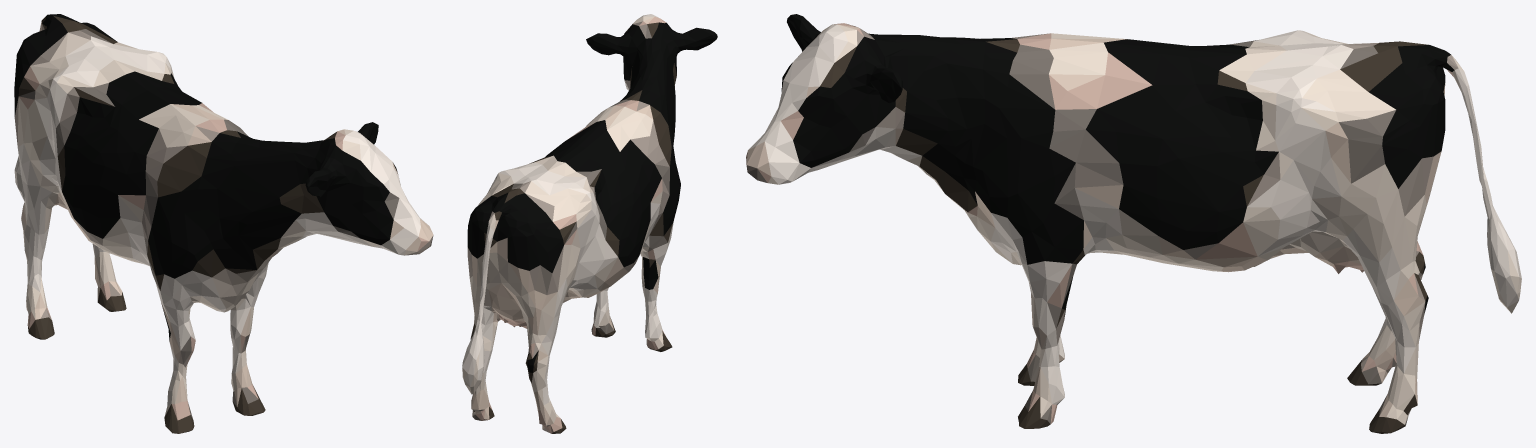
File: LowPolyCow.glb
3 views of the same model, side by side, from view 1: azimuth 30°, elevation 25°; view 2: azimuth 150°, elevation 25°; view 3: azimuth 270°, elevation 25° (orthographic). The views are drawn at different scales.
Visible parts, largest first — view 1: low-poly-cow; view 2: low-poly-cow; view 3: low-poly-cow.
Boxes of the visible parts, <box> form: low-poly-cow: <box>14,14,433,433</box>; low-poly-cow: <box>462,14,717,433</box>; low-poly-cow: <box>746,14,1521,433</box>.
Bounding box in the file's own units: 0.7944 × 1.41 × 2.41.
Materials: 1 (1 with a texture image).
